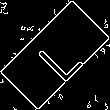L_NW: (26, 26, 84, 84)
